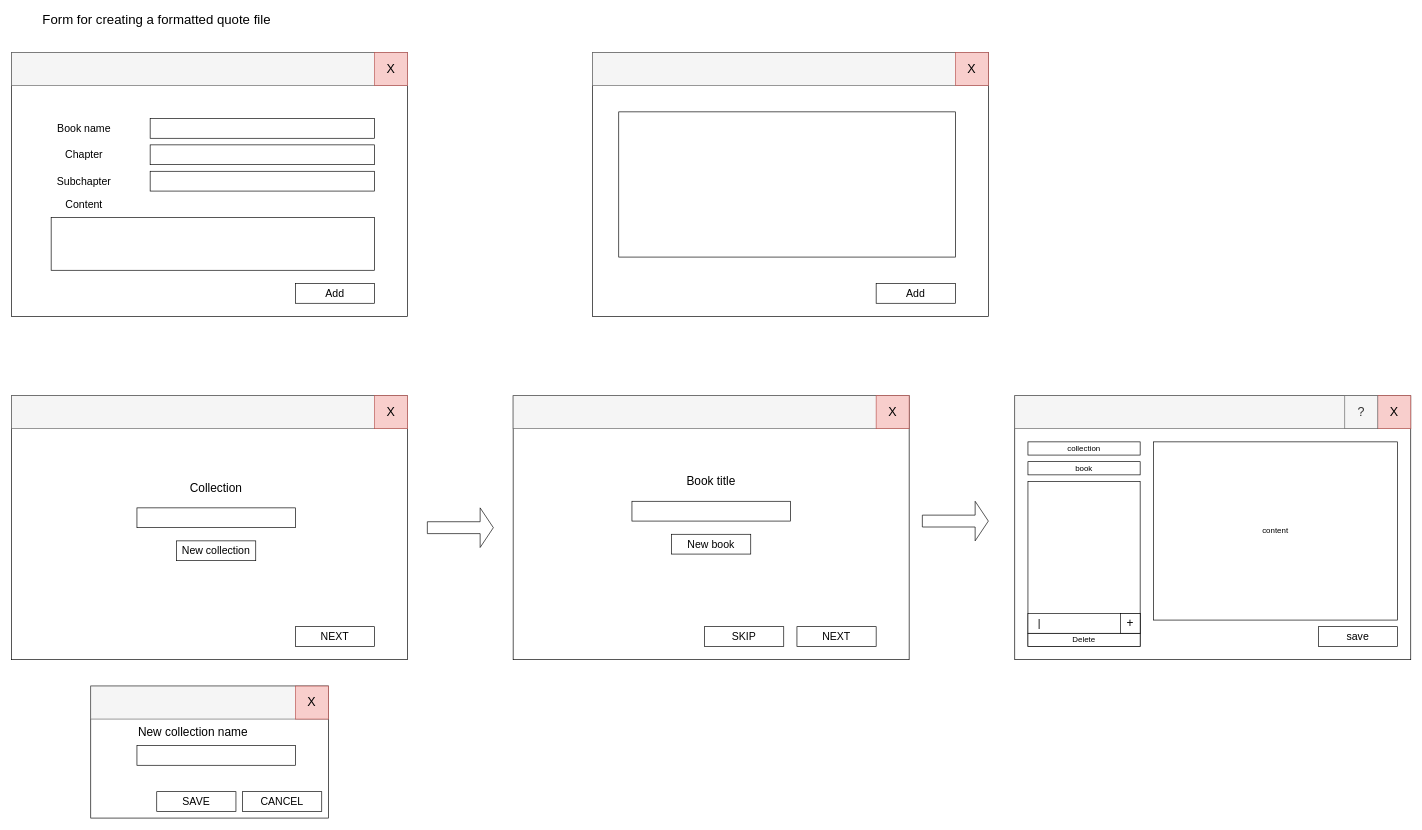
This 1422x830 diagram has some shape labels left out. Here are the shapes that lost their labels. From the top down, the box of each, then its label:
(618, 111, 955, 257): Drag your file here
(1027, 481, 1140, 646): chapters
